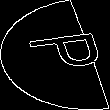P_E: (8, 31, 102, 79)
